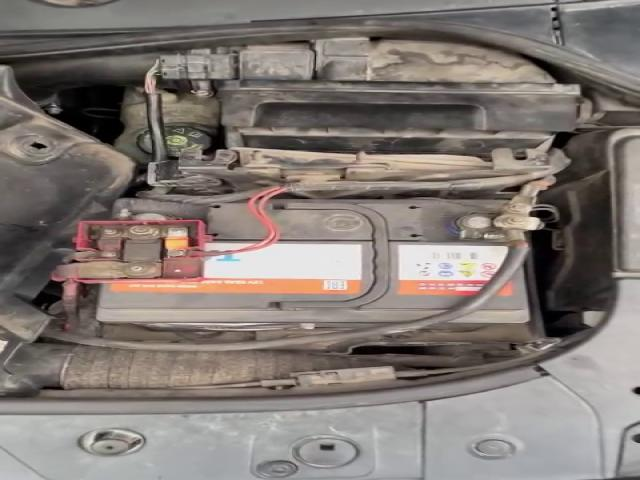accumulator: (53, 197, 531, 333)
